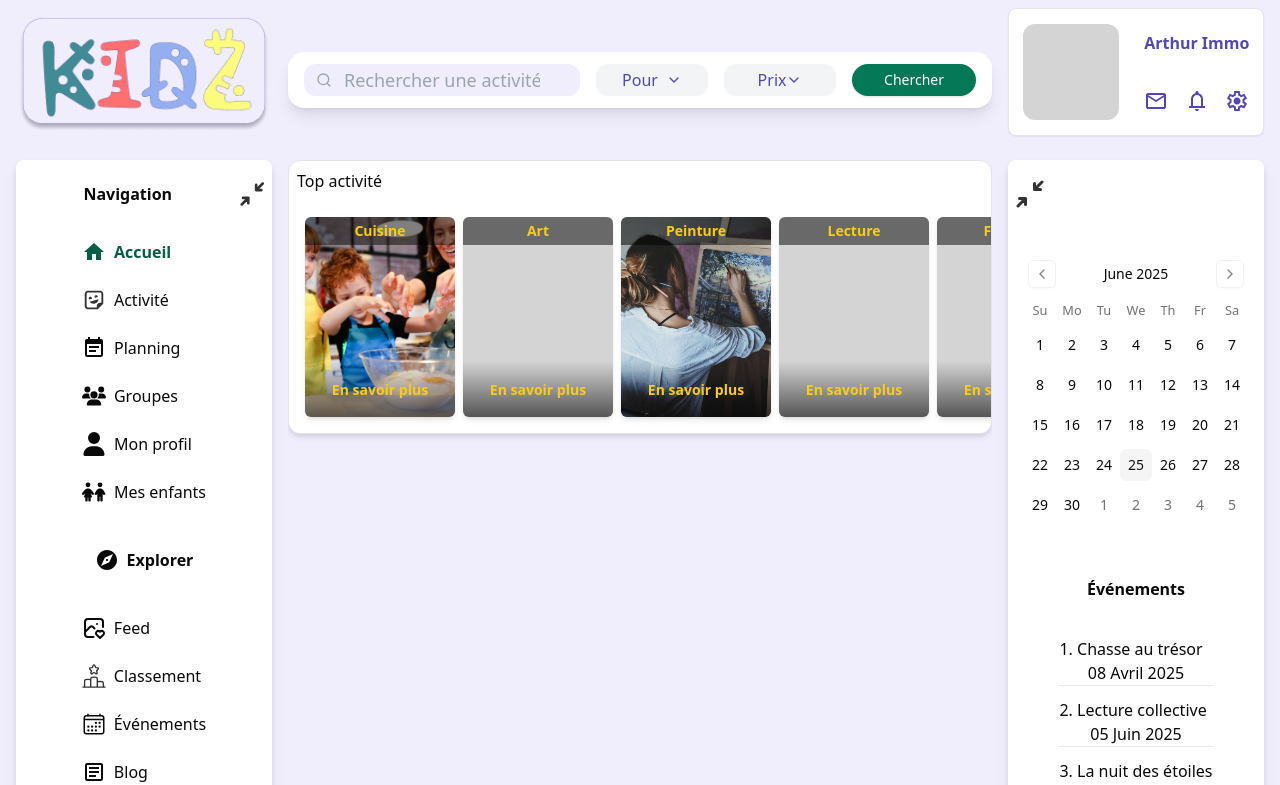
it: SearchBar Component › Filtres - Prix › sélectionne des fourchettes de prix
This screenshot has width=1280, height=785.
What coordinates should you click on to do the following:
click the button "Prix"
I would click on:
 (780, 80)
Its box is [724,64,836,96].
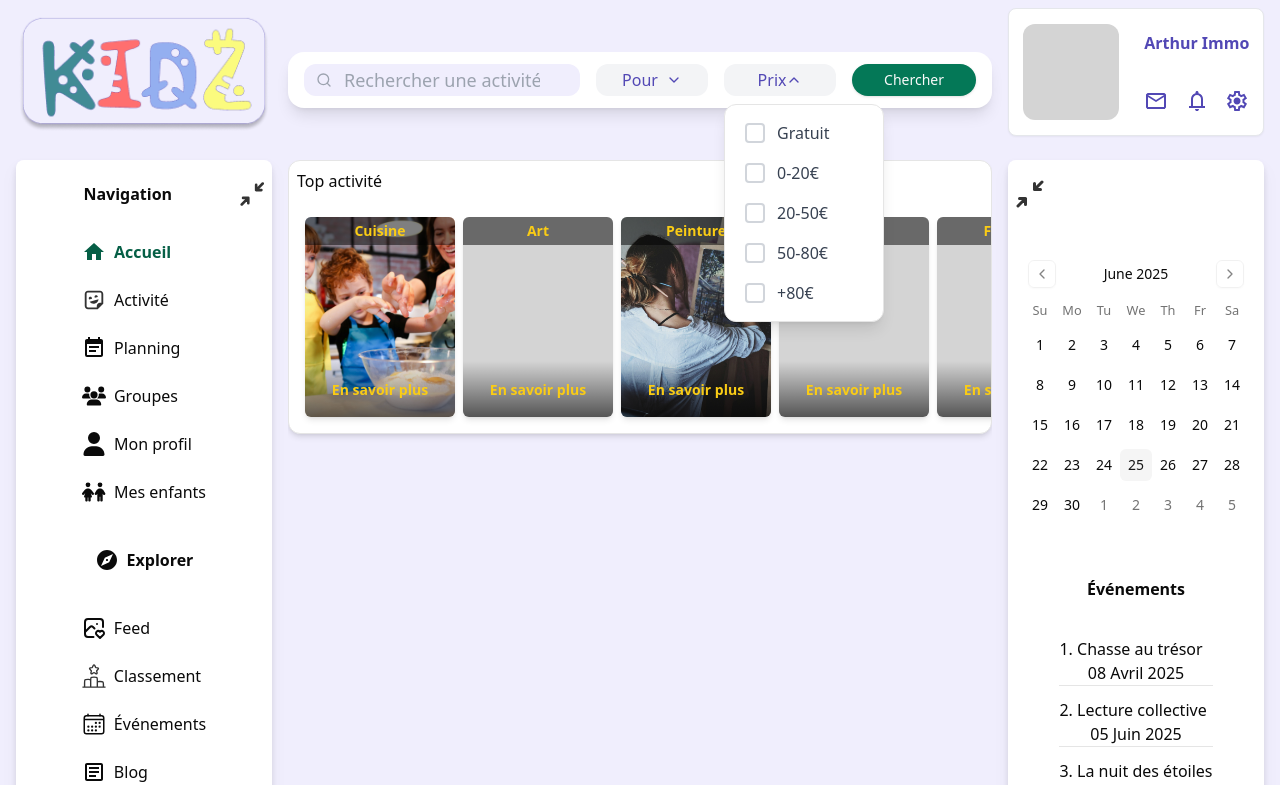
Note: Sélectionner "Gratuit"
What coordinates should you click on to do the following:
click the text "Gratuit"
I would click on:
 (804, 133)
Its box is [777,121,830,145].
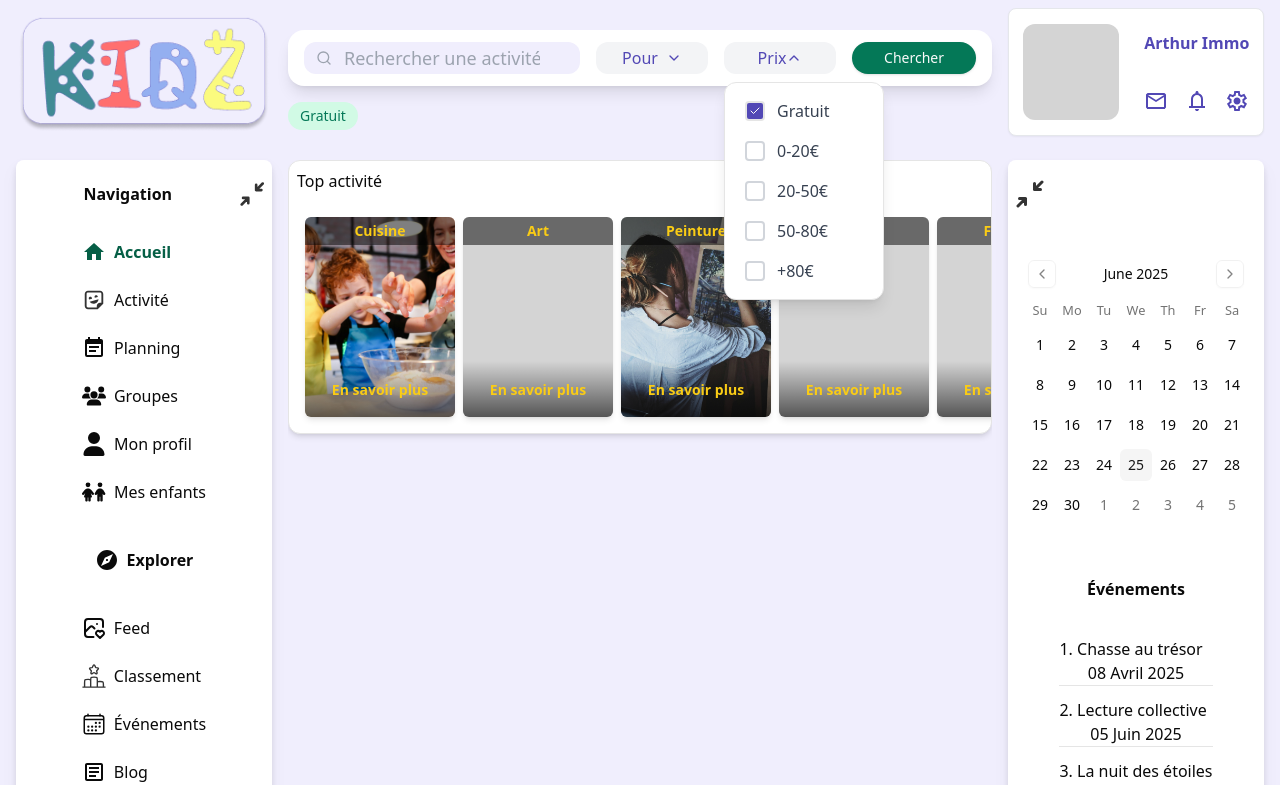
expect the 1st text "Gratuit" is shown: met, box [288,102,358,130]
Note: Sélectionner une autre fourchette
What coordinates should you click on to do the following:
click the text "0-20€"
I would click on:
 (798, 151)
Its box is [777,139,819,163].
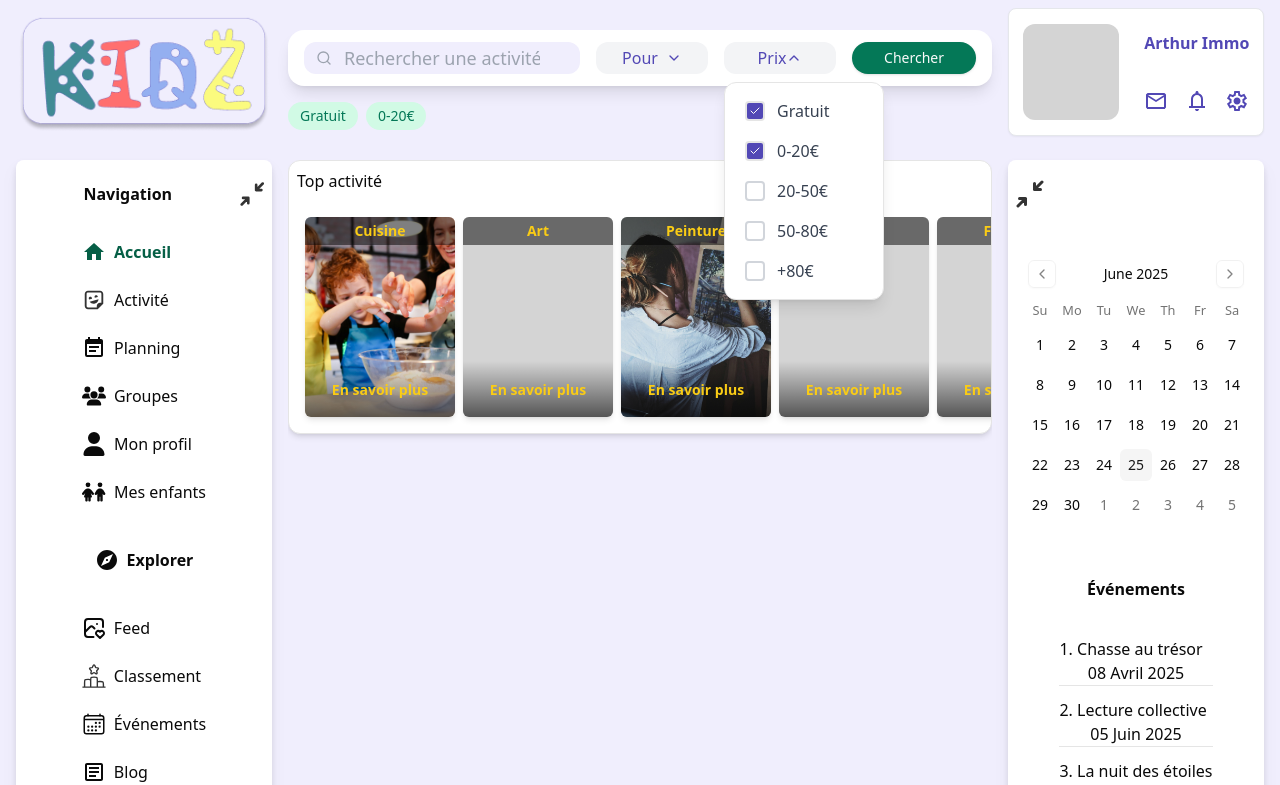
expect the 1st text "0-20€" is shown: met, box [366,102,426,130]
